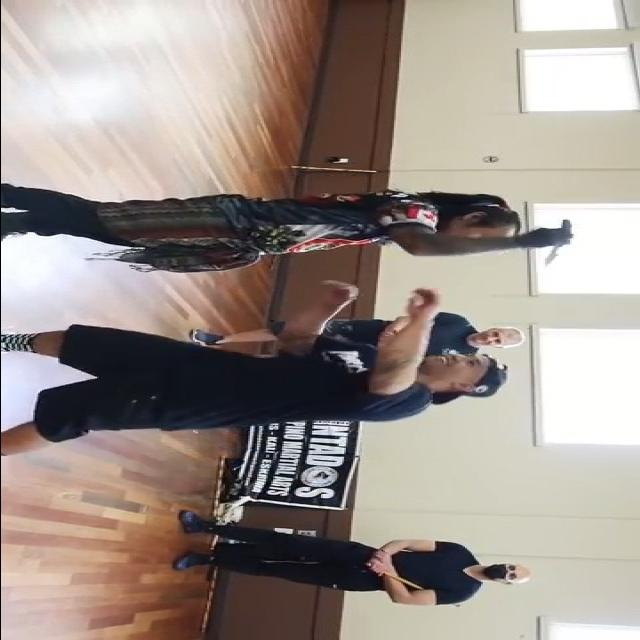Sharp-Object: (534, 220, 580, 269)
Violence: (238, 192, 542, 436)
